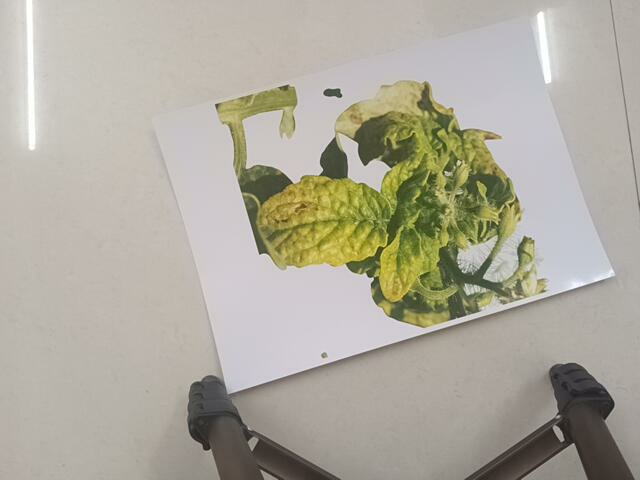Tomamto_Leaf_curl_virus: (207, 102, 567, 314)
